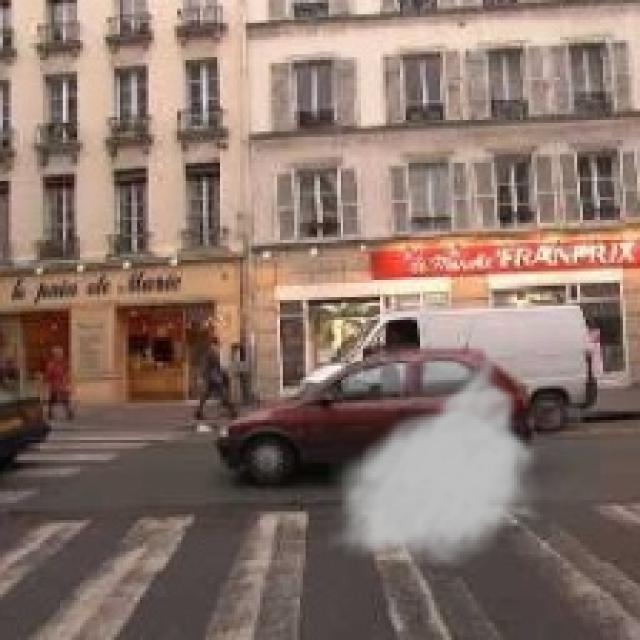smoke: (326, 340, 543, 569)
